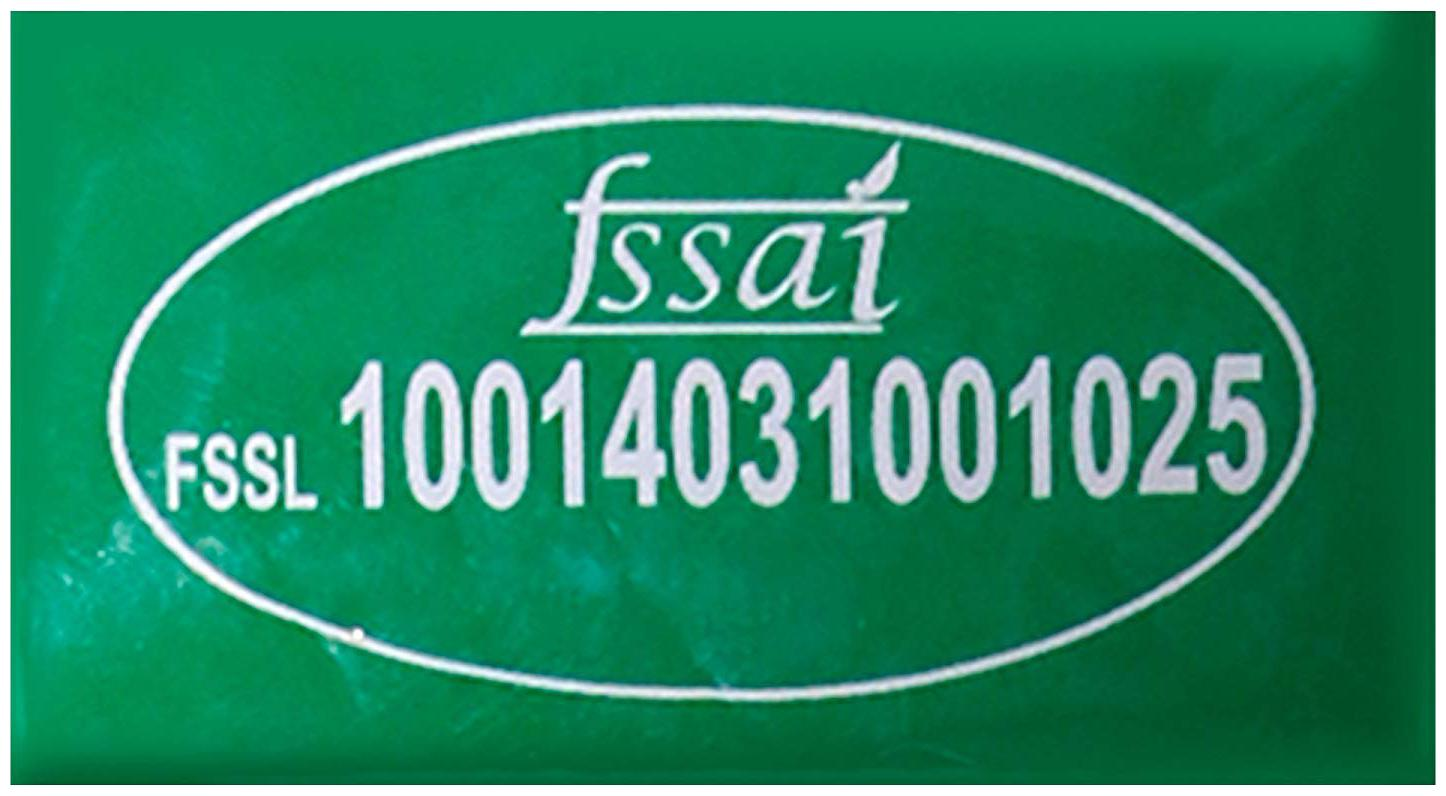fssai: (515, 136, 910, 327)
